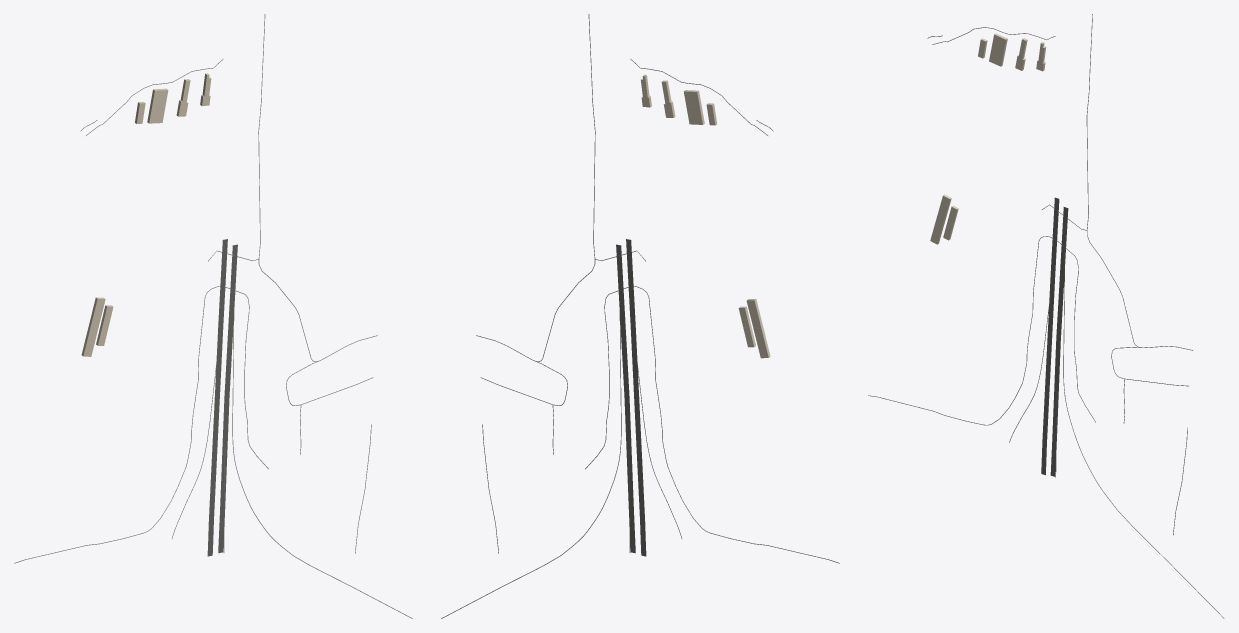
The model's file is historic-palestine-06_22_3481_3160.glb.
3 views of the same model, side by side, from view 1: azimuth 30°, elevation 25°; view 2: azimuth 150°, elevation 25°; view 3: azimuth 330°, elevation 25° (orthographic). The views are drawn at different scales.
Parts seen in each view (by area): view 1: Road כביש חוצה ישראל.003, Road כביש חוצה ישראל.001, Building_, Road כביש חוצה ישראל, Building_.004; view 2: Road כביש חוצה ישראל.003, Road כביש חוצה ישראל.001, Building_, Road כביש חוצה ישראל, Building_.004; view 3: Road כביש חוצה ישראל.003, Road כביש חוצה ישראל.001.
Part boxes in pixels (bbox=[...]): Road כביש חוצה ישראל.003: bbox=[207, 297, 224, 556]; Road כביש חוצה ישראל.001: bbox=[222, 299, 234, 449]; Building_: bbox=[81, 297, 105, 356]; Road כביש חוצה ישראל: bbox=[218, 449, 227, 553]; Building_.004: bbox=[147, 88, 168, 123]; Road כביש חוצה ישראל.003: bbox=[629, 297, 646, 556]; Road כביש חוצה ישראל.001: bbox=[619, 299, 631, 449]; Building_: bbox=[746, 299, 770, 358]; Road כביש חוצה ישראל: bbox=[626, 449, 635, 553]; Building_.004: bbox=[683, 90, 704, 124]; Road כביש חוצה ישראל.003: bbox=[1041, 248, 1056, 474]; Road כביש חוצה ישראל.001: bbox=[1054, 254, 1065, 386].
Size of the model in its own units: 928 by 1426 by 8.7.
